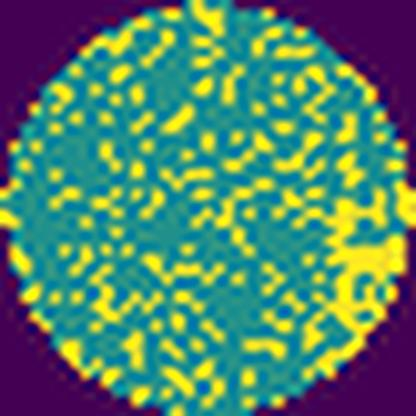Edge-Loc: (302, 188, 408, 395), (391, 174, 415, 240)
